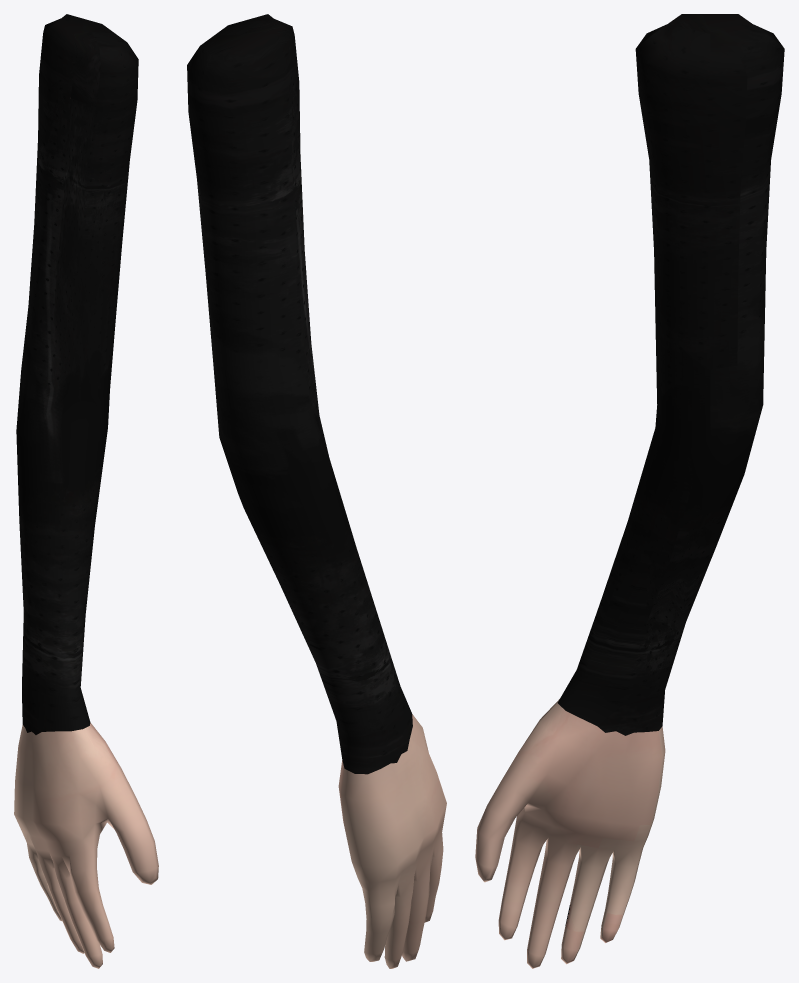
Rendered from RightArm.fbx.
3 renders of one model, left to right at view 1: azimuth 30°, elevation 25°; view 2: azimuth 150°, elevation 25°; view 3: azimuth 270°, elevation 25°, orthographic. The views are drawn at different scales.
Visible parts, largest first — view 1: polySurface13; view 2: polySurface13; view 3: polySurface13.
Part boxes in pixels (x1=…): polySurface13: x1=14, y1=14, x2=158, y2=968; polySurface13: x1=187, y1=14, x2=446, y2=968; polySurface13: x1=475, y1=14, x2=784, y2=968.
Bounding box in the file's own units: 10.48 × 57.65 × 16.47.
